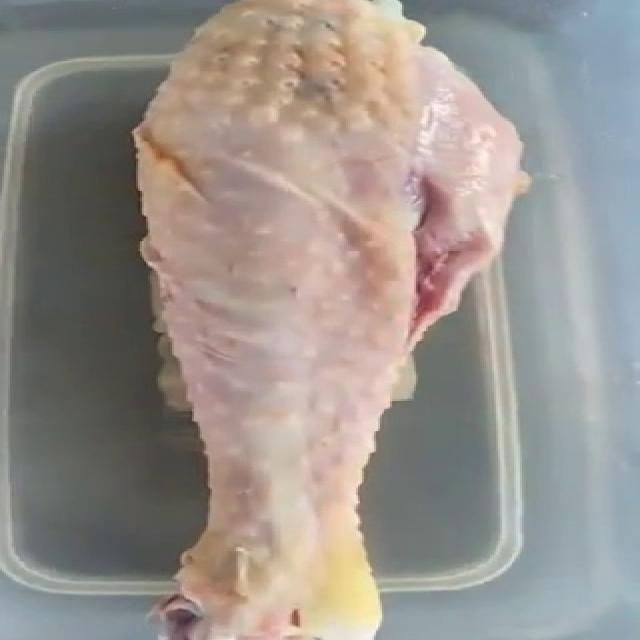chicken: (116, 0, 538, 634)
